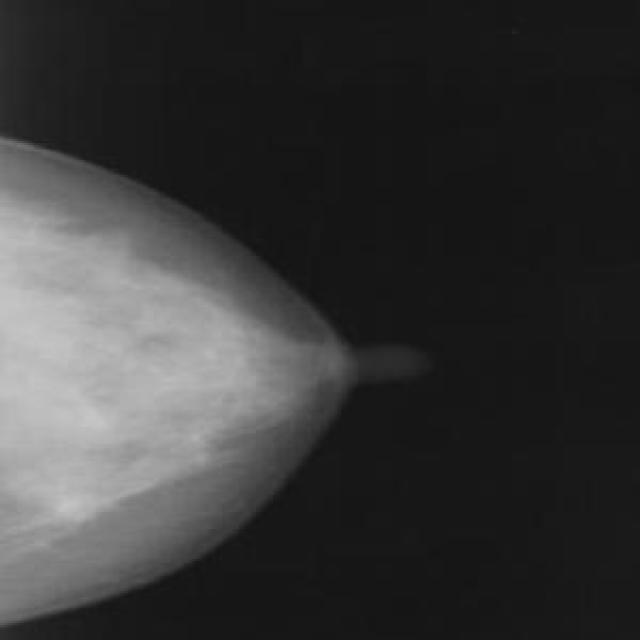tumor: (52, 260, 208, 534)
